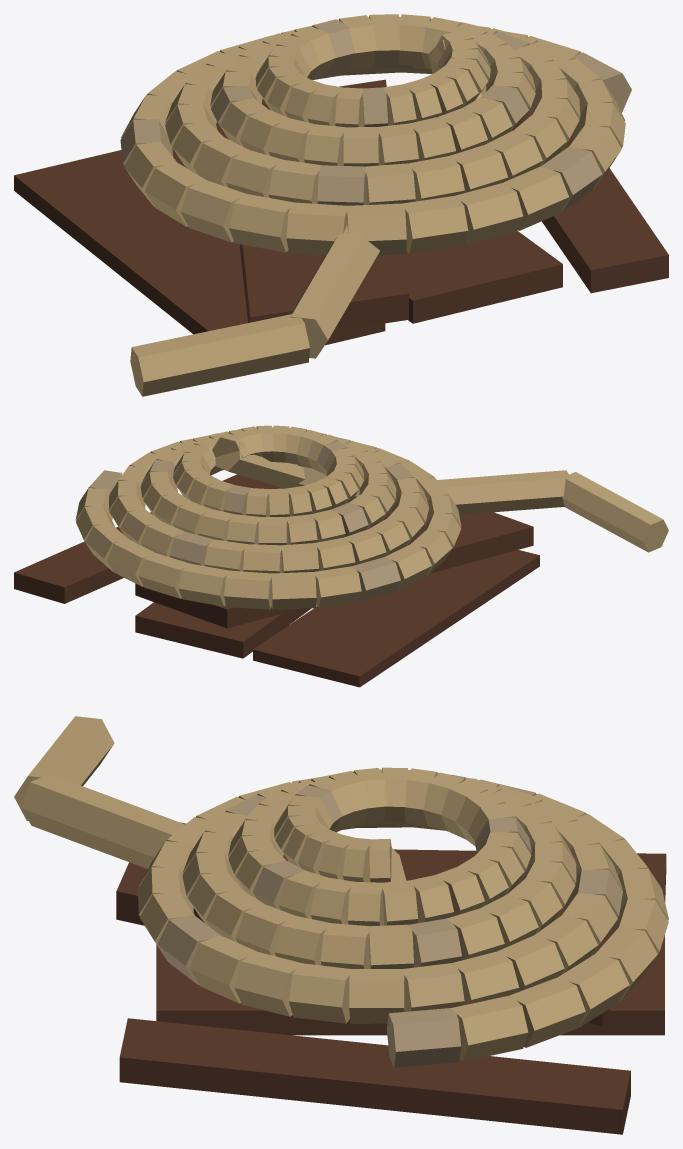
Rendered from rope-coil.glb.
3 renders of one model, top to bottom at view 1: azimuth 30°, elevation 25°; view 2: azimuth 150°, elevation 25°; view 3: azimuth 270°, elevation 25°, orthographic. The views are drawn at different scales.
Visible parts, largest first — view 1: rope-coil; view 2: rope-coil; view 3: rope-coil.
Boxes of the visible parts, x1,y1,x2,y2 form: rope-coil: (14, 14, 668, 396); rope-coil: (14, 425, 668, 687); rope-coil: (14, 716, 668, 1134).
Bounding box in the file's own units: 0.8574 × 0.2211 × 0.6909.
